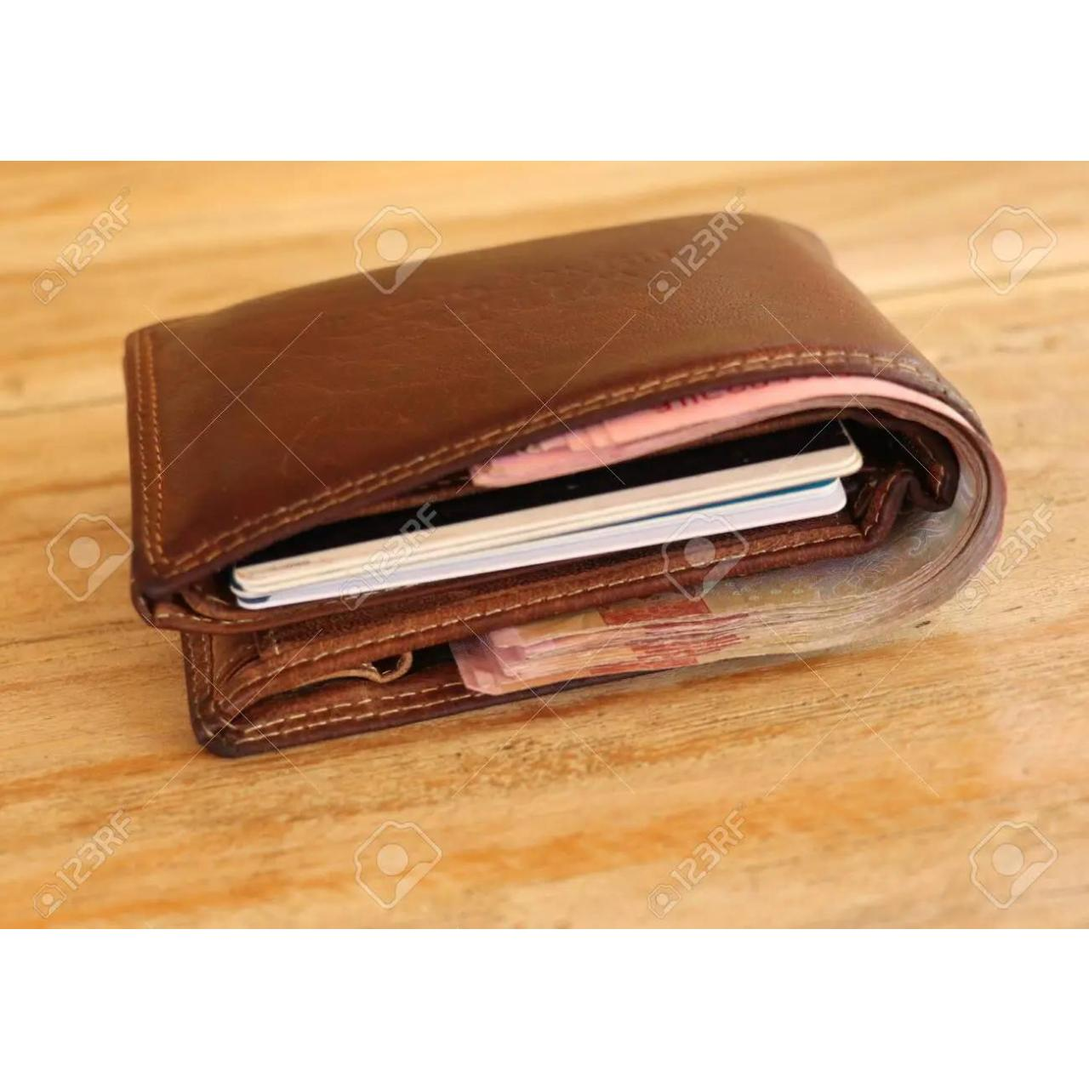wallet: (81, 193, 1013, 767)
